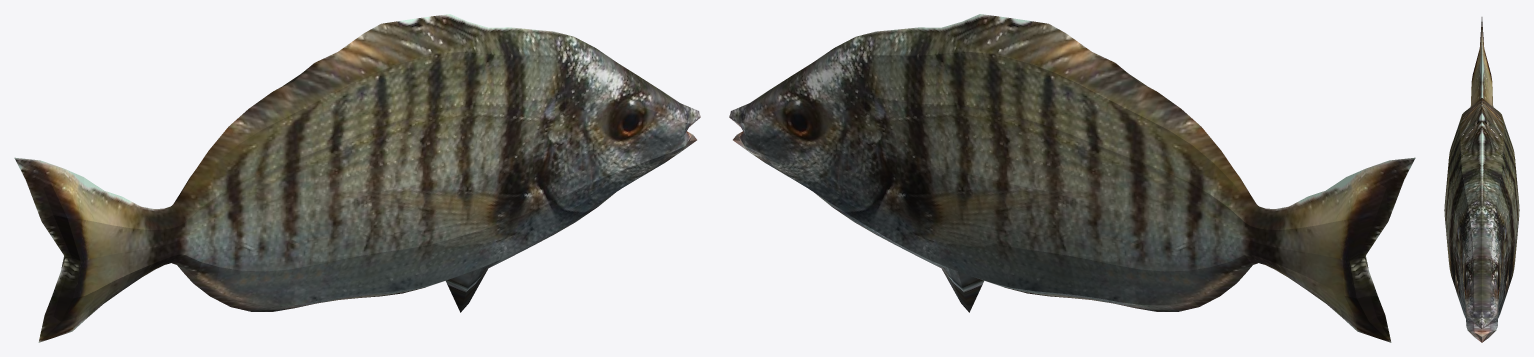
The model's file is fish.glb.
3 renders of one model, left to right at view 1: azimuth 30°, elevation 25°; view 2: azimuth 150°, elevation 25°; view 3: azimuth 270°, elevation 25°, orthographic. The views are drawn at different scales.
Visible parts, largest first — view 1: Cube.022; view 2: Cube.022; view 3: Cube.022.
Boxes of the visible parts, x1,y1,x2,y2 form: Cube.022: (14,14,700,342); Cube.022: (729,14,1415,342); Cube.022: (1444,17,1519,342).
Size of the model in its own units: 0.1892 by 0.0813 by 0.0263.
Materials: 1 (1 with a texture image).
